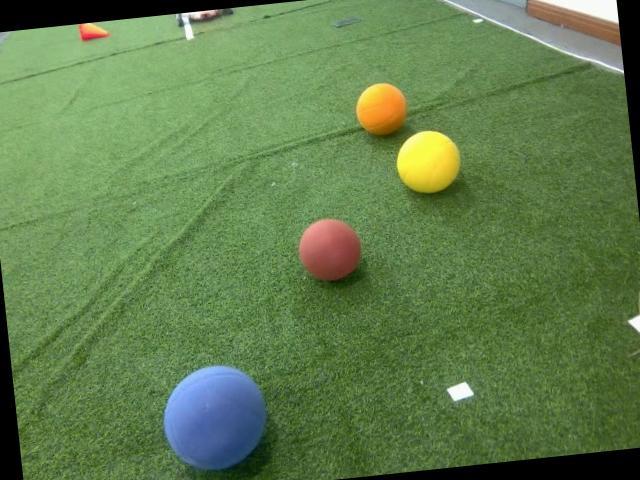blue_ball: (157, 360, 272, 472)
orange_ball: (354, 79, 411, 138)
red_ball: (296, 216, 364, 282)
yellow_ball: (393, 128, 465, 198)
